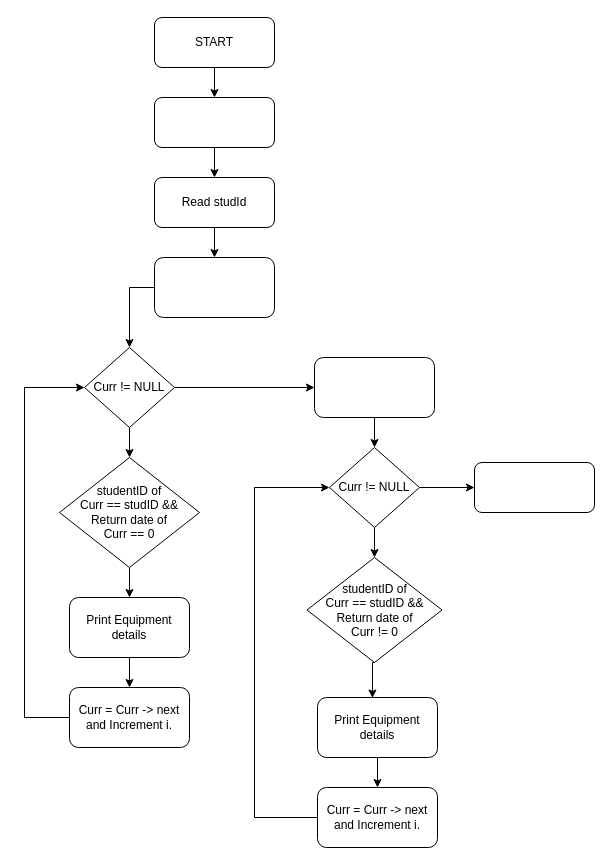
The diagram is 612 pixels wide and 865 high, and some of its shapes have lost their labels. Each missing label, with the centre of its shape:
"Bubble Sort" goes at (x=214, y=122).
"Check-In equipment" goes at (x=214, y=287).
"Check-out equipment and update value Curr ." goes at (x=374, y=387).
"END" goes at (x=534, y=487).
